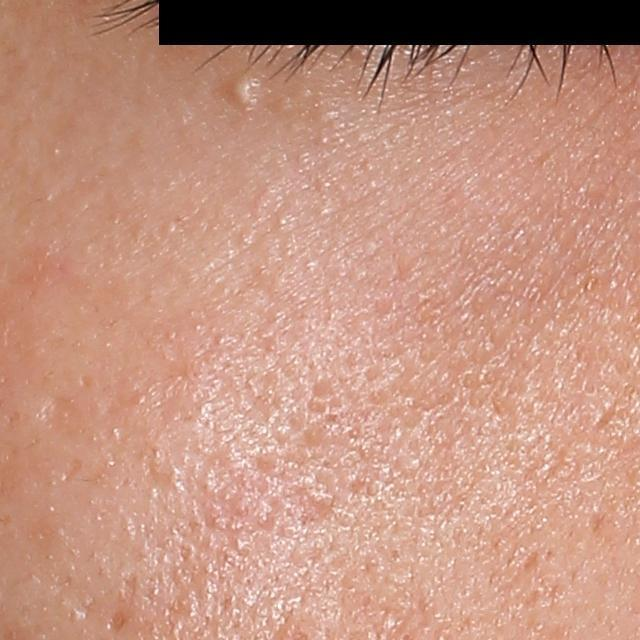atrophic_scar: (30, 395, 82, 436), (518, 548, 538, 573)
comedo: (228, 77, 254, 106)
